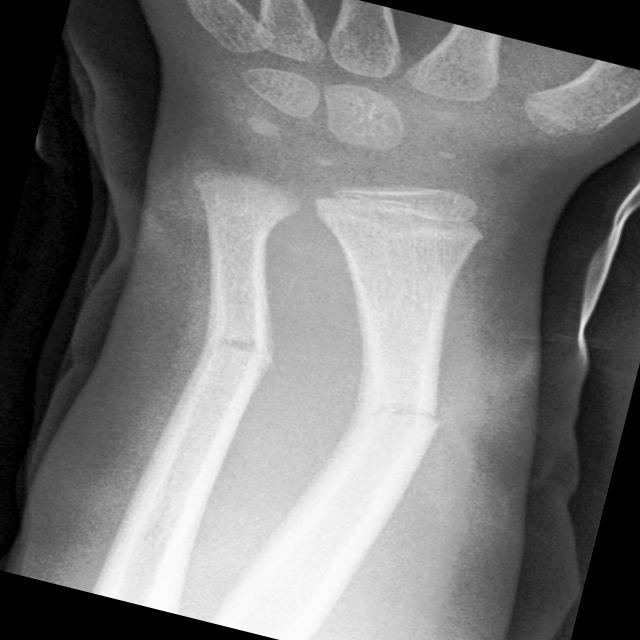GreenStick Fracture: (364, 381, 446, 442), (216, 318, 280, 367)
